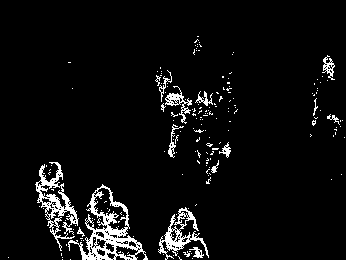person: (35, 161, 86, 258), (86, 200, 147, 260), (154, 205, 212, 260), (159, 84, 189, 158), (190, 90, 210, 164)
